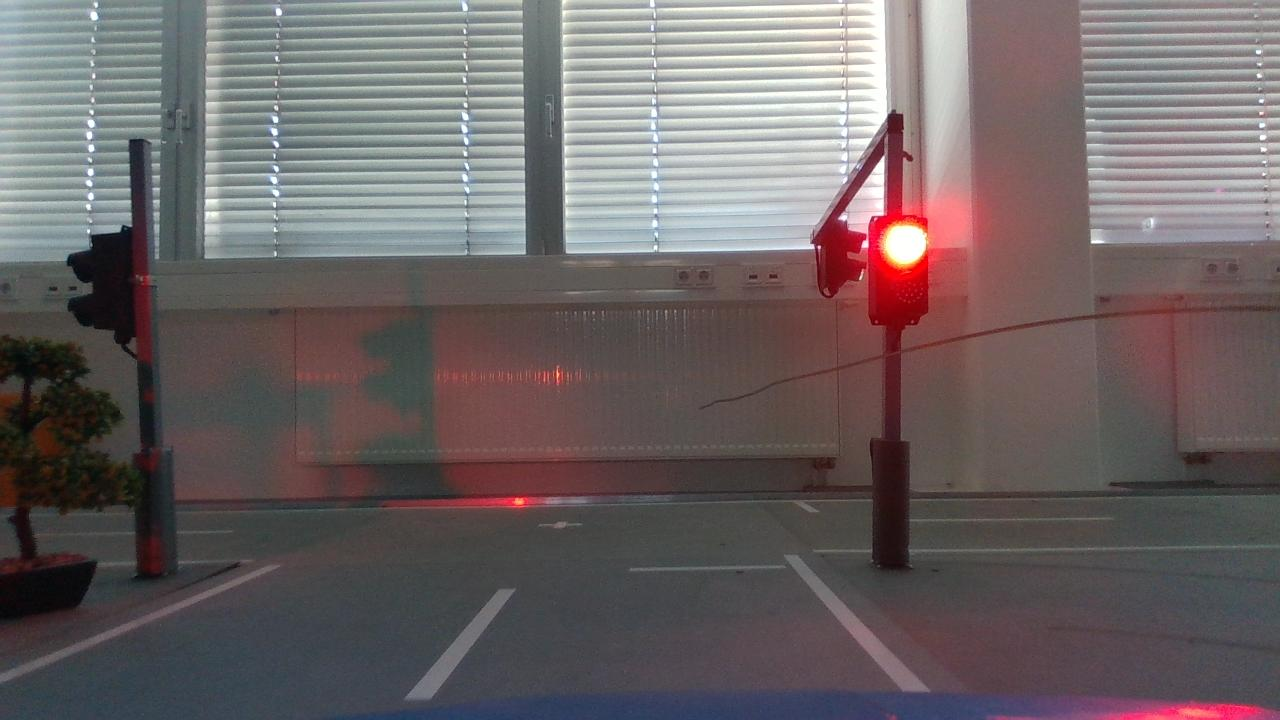traffic_light_red: (858, 200, 949, 344)
